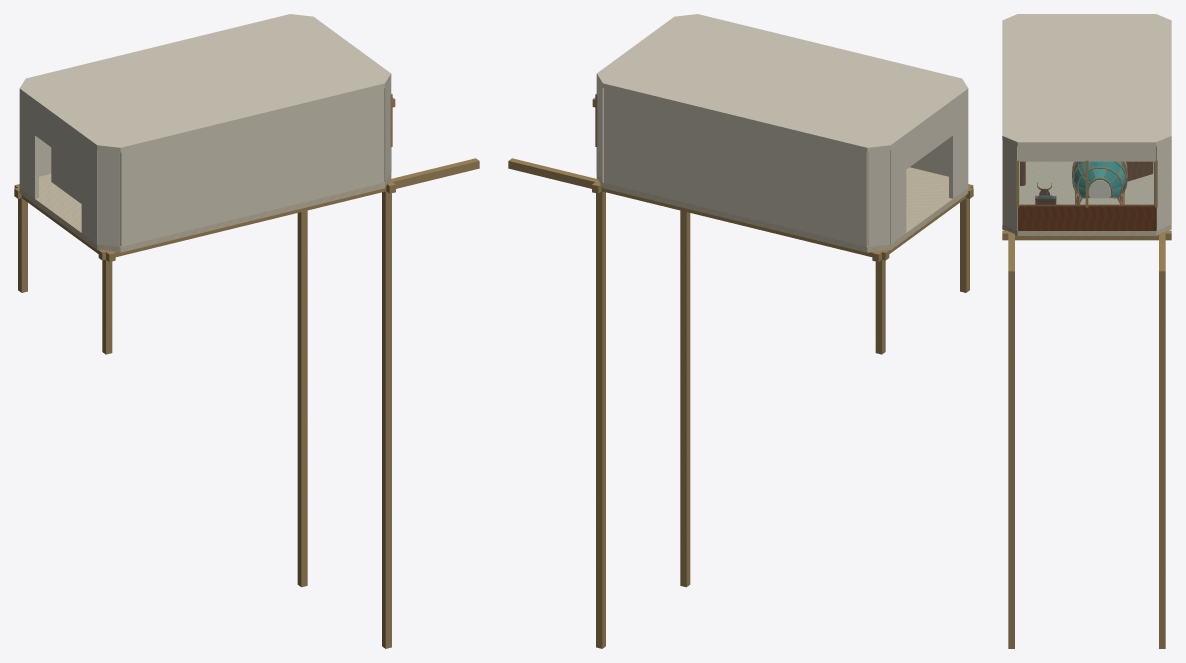
File: D04_STARBOARD_FORWARD_HOME_883_r001.glb
3 views of the same model, side by side, from view 1: azimuth 30°, elevation 25°; view 2: azimuth 150°, elevation 25°; view 3: azimuth 270°, elevation 25° (orthographic). The views are drawn at different scales.
Visible parts, largest first — view 1: D04SH883_Roof, D04SH883_Shell_3, D04SH883_Pier_2, D04SH883_Pier_1, D04SH883_Floor, D04SH883_FloorCross_1, D04SH883_Shell_4, D04SH883_EntryWall_0, D04SH883_EntryWall_1, D04SH883_EntryHeader, D04SH883_BathDogleg, D04SH883_Pier_4 (+2 smaller); view 2: D04SH883_Roof, D04SH883_Shell_7, D04SH883_Pier_1, D04SH883_Floor, D04SH883_Pier_2, D04SH883_FloorCross_0, D04SH883_Shell_6, D04SH883_EntryWall_1, D04SH883_EntryWall_0, D04SH883_EntryHeader, D04SH883_Pier_3, D04SH883_Pier_4 (+2 smaller); view 3: D04SH883_Roof, D04SH883_GardenGlass, D04SH883_Floor, D04SH883_GardenDado, D04SH883_Pier_1, D04SH883_Pier_2, D04SH883_GardenHead, D04SH883_Shell_0, D04SH883_Shell_2, D04SH883_Long_-58.650000000000006, D04SH883_QuietWing, D04SH883_ReservedCocoon__Rear ivory acoustic diffuser (+2 smaller).
Part boxes in pixels (x1=…): D04SH883_Roof: x1=19, y1=14, x2=391, y2=152; D04SH883_Shell_3: x1=120, y1=88, x2=383, y2=246; D04SH883_Pier_2: x1=382, y1=180, x2=391, y2=648; D04SH883_Pier_1: x1=297, y1=210, x2=307, y2=587; D04SH883_Floor: x1=19, y1=173, x2=391, y2=252; D04SH883_FloorCross_1: x1=98, y1=158, x2=479, y2=260; D04SH883_Shell_4: x1=98, y1=150, x2=120, y2=246; D04SH883_EntryWall_0: x1=19, y1=93, x2=38, y2=198; D04SH883_EntryWall_1: x1=81, y1=139, x2=97, y2=244; D04SH883_EntryHeader: x1=35, y1=104, x2=81, y2=169; D04SH883_BathDogleg: x1=51, y1=147, x2=81, y2=203; D04SH883_Pier_4: x1=102, y1=250, x2=112, y2=354; D04SH883_Roof: x1=596, y1=14, x2=968, y2=152; D04SH883_Shell_7: x1=604, y1=88, x2=867, y2=246; D04SH883_Pier_1: x1=596, y1=180, x2=605, y2=648; D04SH883_Floor: x1=596, y1=167, x2=968, y2=252; D04SH883_Pier_2: x1=680, y1=210, x2=690, y2=587; D04SH883_FloorCross_0: x1=508, y1=158, x2=889, y2=260; D04SH883_Shell_6: x1=867, y1=150, x2=889, y2=246; D04SH883_EntryWall_1: x1=949, y1=93, x2=968, y2=198; D04SH883_EntryWall_0: x1=890, y1=139, x2=906, y2=244; D04SH883_EntryHeader: x1=906, y1=104, x2=952, y2=169; D04SH883_Pier_3: x1=875, y1=250, x2=885, y2=354; D04SH883_Pier_4: x1=960, y1=187, x2=969, y2=292; D04SH883_Roof: x1=1002, y1=14, x2=1171, y2=146; D04SH883_GardenGlass: x1=1020, y1=162, x2=1154, y2=205; D04SH883_Floor: x1=1002, y1=161, x2=1171, y2=235; D04SH883_GardenDado: x1=1017, y1=204, x2=1156, y2=230; D04SH883_Pier_1: x1=1159, y1=231, x2=1165, y2=648; D04SH883_Pier_2: x1=1008, y1=231, x2=1014, y2=648; D04SH883_GardenHead: x1=1017, y1=146, x2=1156, y2=161; D04SH883_Shell_0: x1=1154, y1=140, x2=1170, y2=230; D04SH883_Shell_2: x1=1003, y1=140, x2=1019, y2=230; D04SH883_Long_-58.650000000000006: x1=1002, y1=230, x2=1171, y2=240; D04SH883_QuietWing: x1=1126, y1=161, x2=1153, y2=181; D04SH883_ReservedCocoon__Rear ivory acoustic diffuser: x1=1089, y1=180, x2=1110, y2=198.
Bounding box in the file's own units: 16.55 × 23.86 × 7.2.
36 materials, 21 textured.
